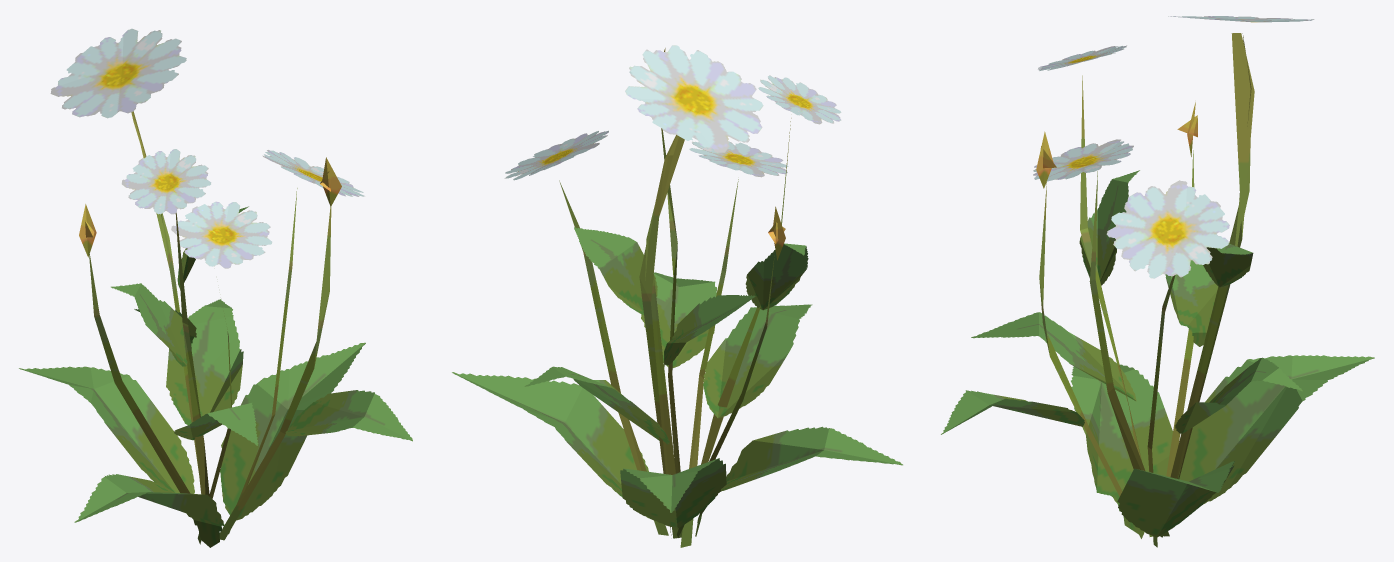
The model's file is gi-Flower07.glb.
3 views of the same model, side by side, from view 1: azimuth 30°, elevation 25°; view 2: azimuth 150°, elevation 25°; view 3: azimuth 270°, elevation 25° (orthographic). The views are drawn at different scales.
Visible parts, largest first — view 1: gi-Flower07; view 2: gi-Flower07; view 3: gi-Flower07.
Boxes of the visible parts, x1,y1,x2,y2 form: gi-Flower07: [19, 28, 412, 547]; gi-Flower07: [452, 45, 902, 547]; gi-Flower07: [941, 16, 1374, 547].
Size of the model in its own units: 0.3927 by 0.5034 by 0.3781.
1 material, 1 textured.
